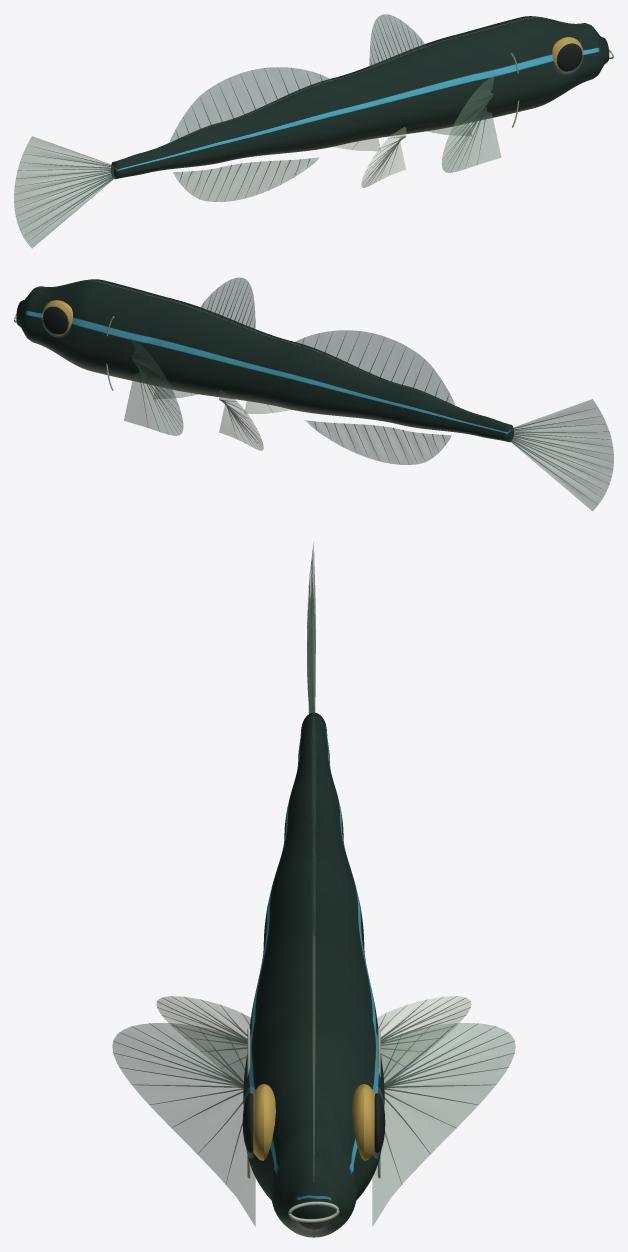
The model's file is neongoby-desktop.glb.
3 views of the same model, one above another, from view 1: azimuth 30°, elevation 25°; view 2: azimuth 150°, elevation 25°; view 3: azimuth 270°, elevation 25° (orthographic). The views are drawn at different scales.
Visible parts, largest first — view 1: skin, dorsal, tail, anal, pectoral-left, dorsal-ray, pelvic-left, eye-pupil--1, eye-iris--1; view 2: skin, tail, dorsal, anal, pectoral-left, dorsal-ray, pelvic-left, eye-pupil--1, eye-iris--1; view 3: skin, pectoral-left, pelvic-left, dorsal-ray, eye-iris--1, tail, eye-pupil--1, dorsal, operculum.
Boxes of the visible parts, x1=… form: skin: x1=111, y1=16, x2=609, y2=179; dorsal: x1=169, y1=14, x2=426, y2=143; tail: x1=14, y1=136, x2=113, y2=248; anal: x1=173, y1=157, x2=319, y2=201; pectoral-left: x1=427, y1=75, x2=501, y2=172; dorsal-ray: x1=15, y1=16, x2=493, y2=239; pelvic-left: x1=333, y1=127, x2=406, y2=187; eye-pupil--1: x1=557, y1=43, x2=582, y2=71; eye-iris--1: x1=552, y1=37, x2=582, y2=72; skin: x1=16, y1=279, x2=513, y2=442; tail: x1=511, y1=399, x2=613, y2=510; dorsal: x1=199, y1=277, x2=455, y2=406; anal: x1=305, y1=420, x2=451, y2=464; pectoral-left: x1=124, y1=338, x2=197, y2=435; dorsal-ray: x1=131, y1=279, x2=612, y2=504; pelvic-left: x1=219, y1=390, x2=291, y2=450; eye-pupil--1: x1=43, y1=306, x2=68, y2=334; eye-iris--1: x1=42, y1=300, x2=72, y2=335; skin: x1=243, y1=712, x2=384, y2=1237; pectoral-left: x1=112, y1=1023, x2=515, y2=1226; pelvic-left: x1=156, y1=996, x2=471, y2=1083; dorsal-ray: x1=113, y1=550, x2=514, y2=1183; eye-iris--1: x1=253, y1=1084, x2=374, y2=1160; tail: x1=307, y1=542, x2=315, y2=713; eye-pupil--1: x1=242, y1=1093, x2=385, y2=1152; dorsal: x1=311, y1=709, x2=316, y2=938; operculum: x1=247, y1=1028, x2=380, y2=1222.
Size of the model in its own units: 0.5972 by 0.1513 by 0.1755.
11 materials, 1 textured.
